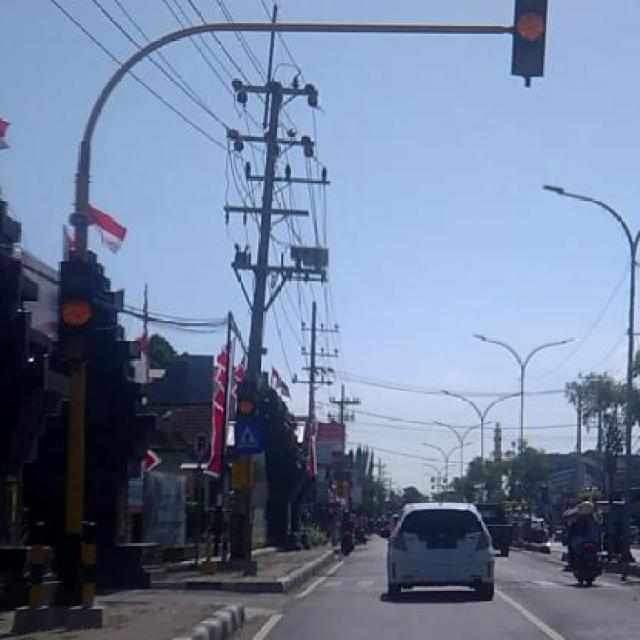traffic light: (56, 263, 100, 369), (513, 2, 550, 82)
